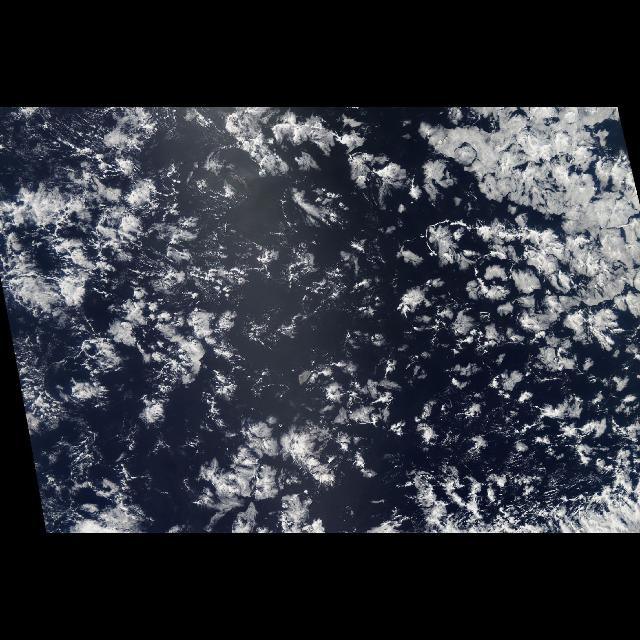Flower: (273, 110, 449, 206)
Gravel: (26, 159, 218, 301)
